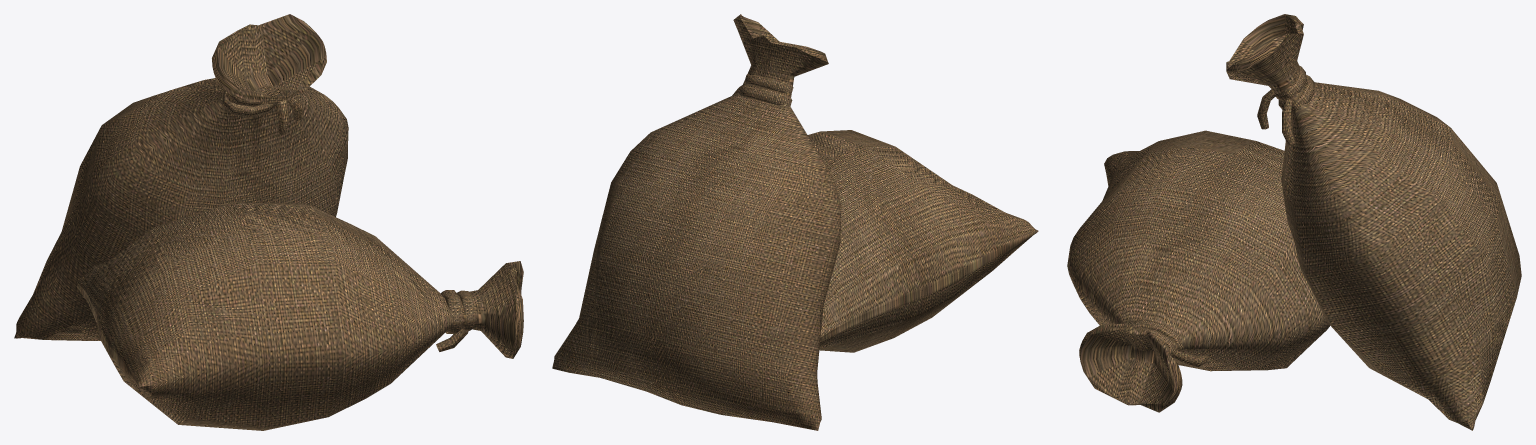
File: sack02.fbx
3 views of the same model, side by side, from view 1: azimuth 30°, elevation 25°; view 2: azimuth 150°, elevation 25°; view 3: azimuth 270°, elevation 25° (orthographic). The views are drawn at different scales.
Parts seen in each view (by area): view 1: sack2_LOD0; view 2: sack2_LOD0; view 3: sack2_LOD0.
Part boxes in pixels (left/top/right/bottom): sack2_LOD0: left=14, top=14, right=523, bottom=430; sack2_LOD0: left=552, top=14, right=1038, bottom=430; sack2_LOD0: left=1067, top=14, right=1521, bottom=430.
Size of what is drawn, in the model's own units: 125 by 103 by 121.
